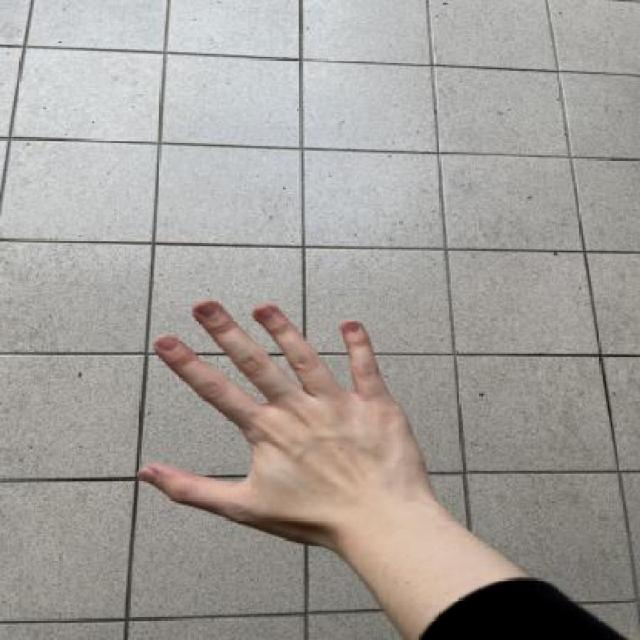no_glove: (124, 288, 461, 567)
